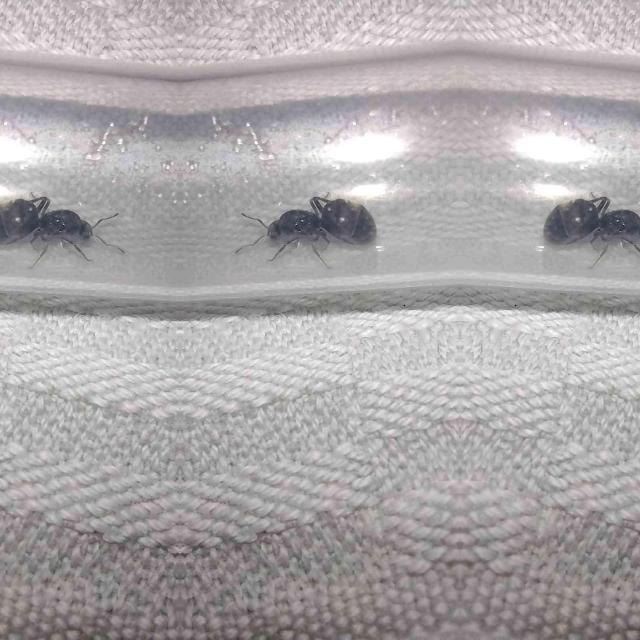Lasius: (216, 196, 380, 258), (0, 196, 142, 258), (538, 196, 640, 258)
